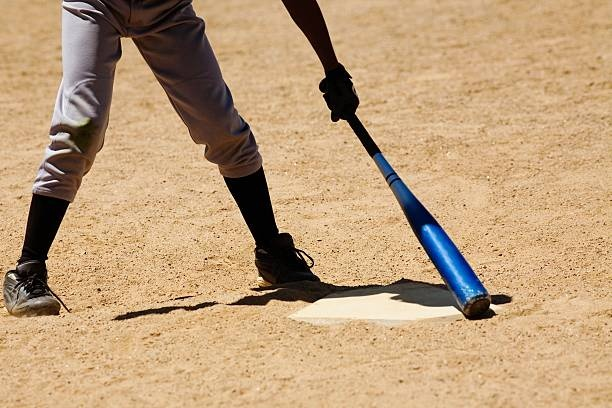bita: (336, 96, 491, 317)
